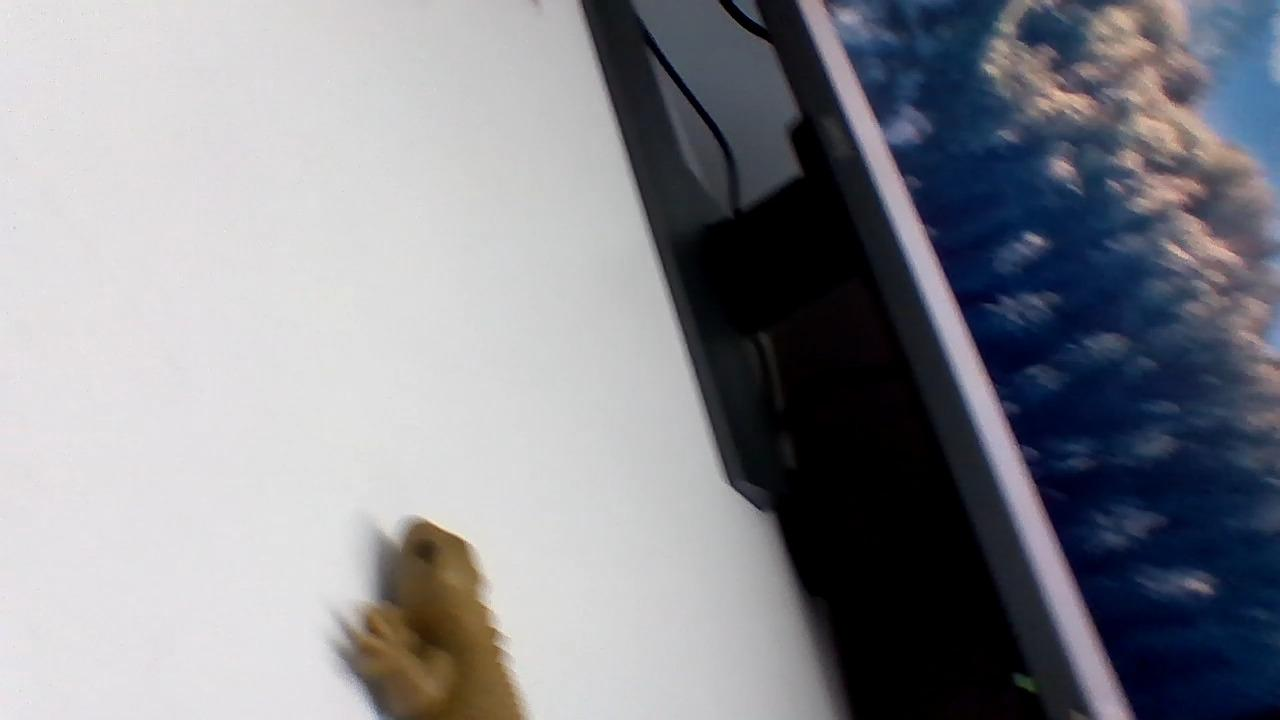lizard: (325, 501, 533, 720)
